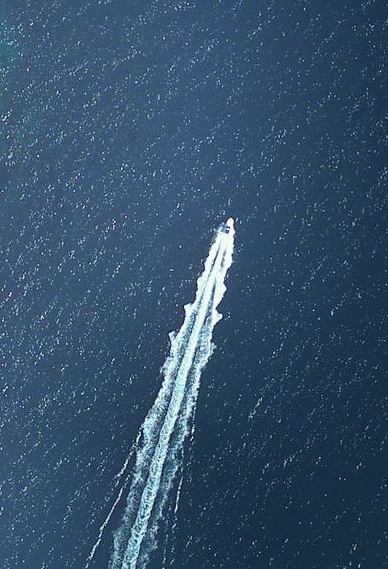ship: (218, 213, 238, 239)
